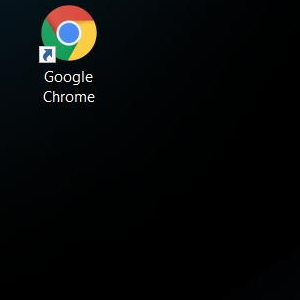chrome: (38, 5, 97, 63)
